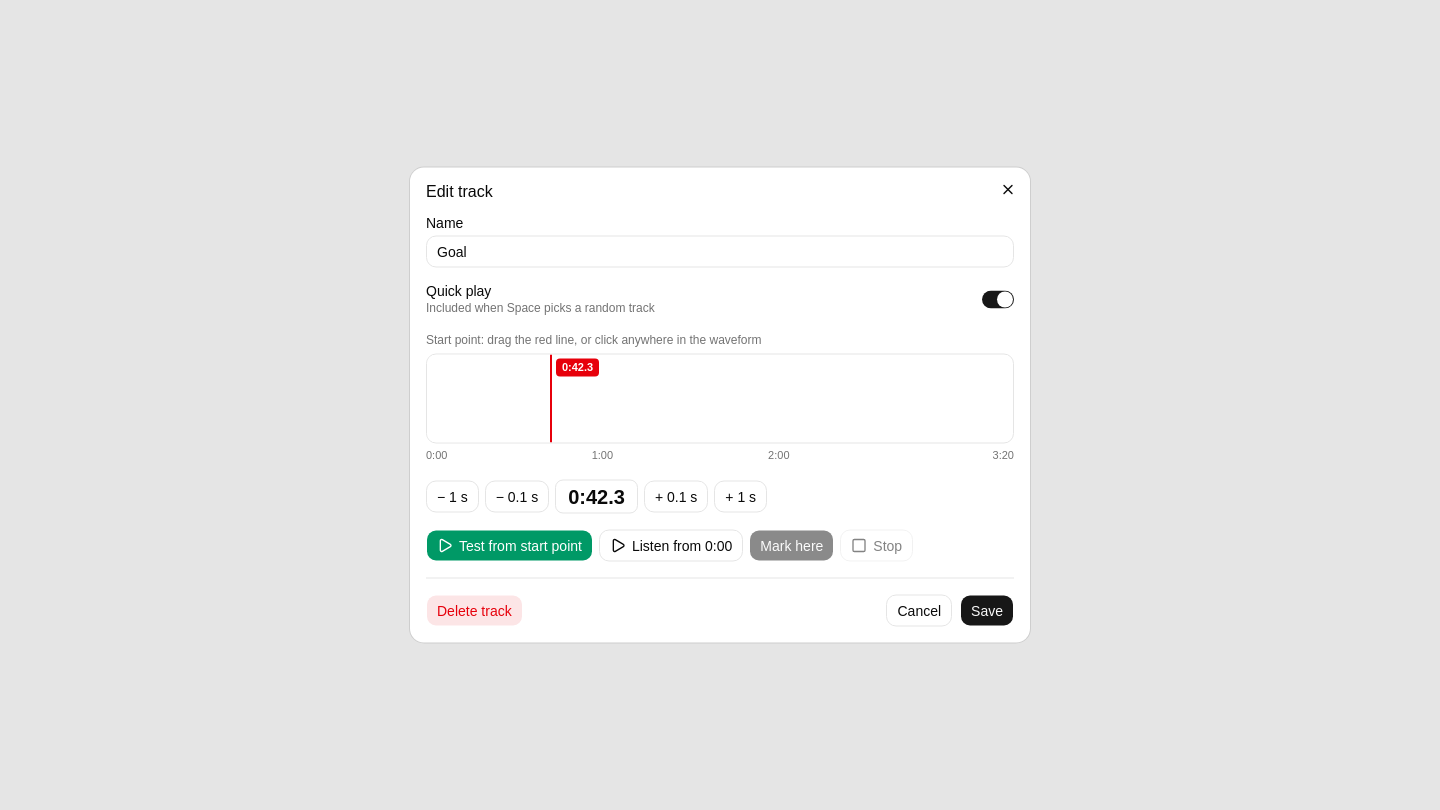
Scenario: turning the switch off is a draft until Save, then sends only quick_play
The image size is (1440, 810).
Later steps or results of the test are not shown.
Click the switch named "Quick play".
click(998, 300)  # box [982,290,1014,309]
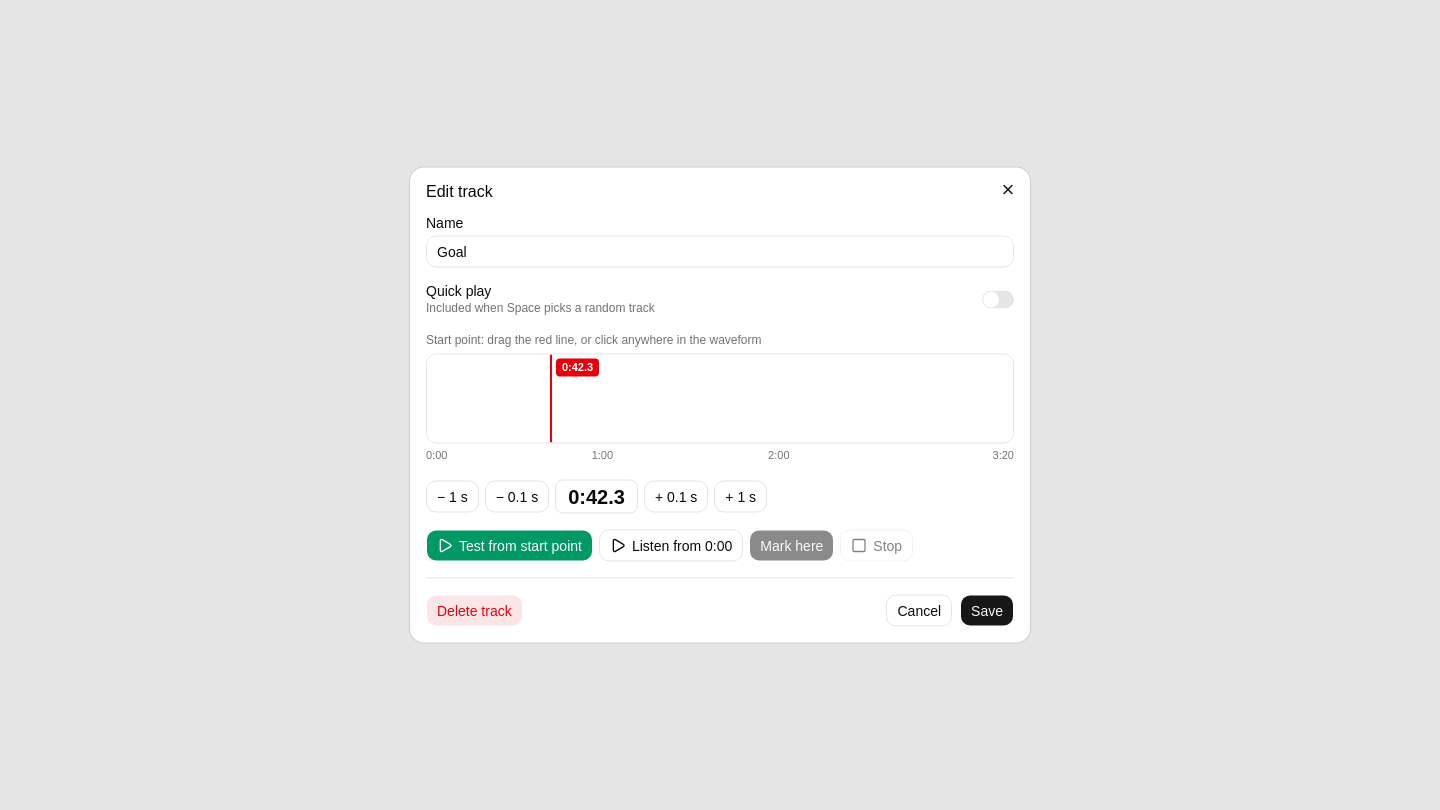
Expected: the switch named "Quick play" is not checked, [982,290,1014,309]
